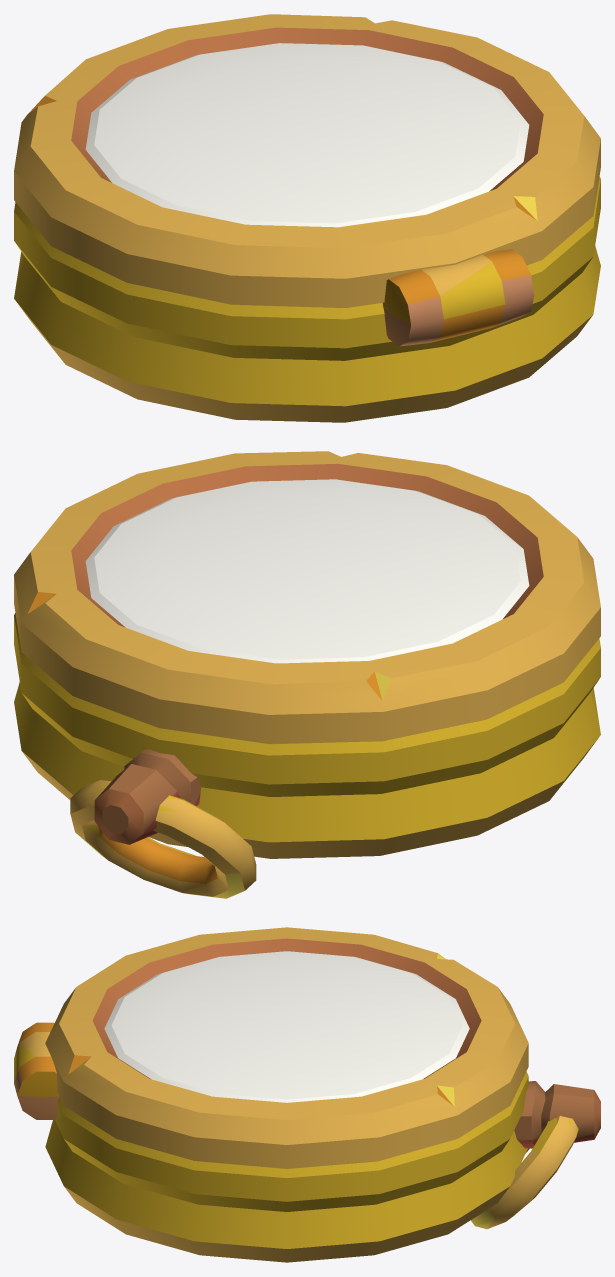
The model's file is itch_kaykit_rpg_tools_compass_base.glb.
The picture shows the model from 3 angles, top to bottom: view 1: azimuth 30°, elevation 25°; view 2: azimuth 150°, elevation 25°; view 3: azimuth 270°, elevation 25°; orthographic projection. The views are drawn at different scales.
Parts seen in each view (by area): view 1: compass_lid, compass_base; view 2: compass_lid, compass_base; view 3: compass_lid, compass_base.
Boxes of the visible parts, x1,y1,x2,y2 form: compass_lid: (14, 14, 600, 346); compass_base: (14, 177, 600, 422); compass_lid: (14, 451, 600, 744); compass_base: (14, 613, 600, 898); compass_lid: (14, 927, 528, 1168); compass_base: (45, 1071, 600, 1262).
Bounding box in the file's own units: 0.9717 × 0.4509 × 1.18.
